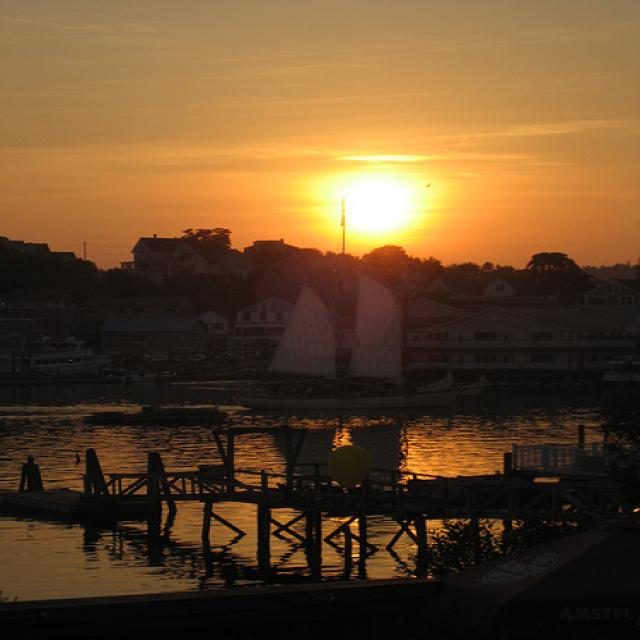Boat: (262, 198, 467, 495)
